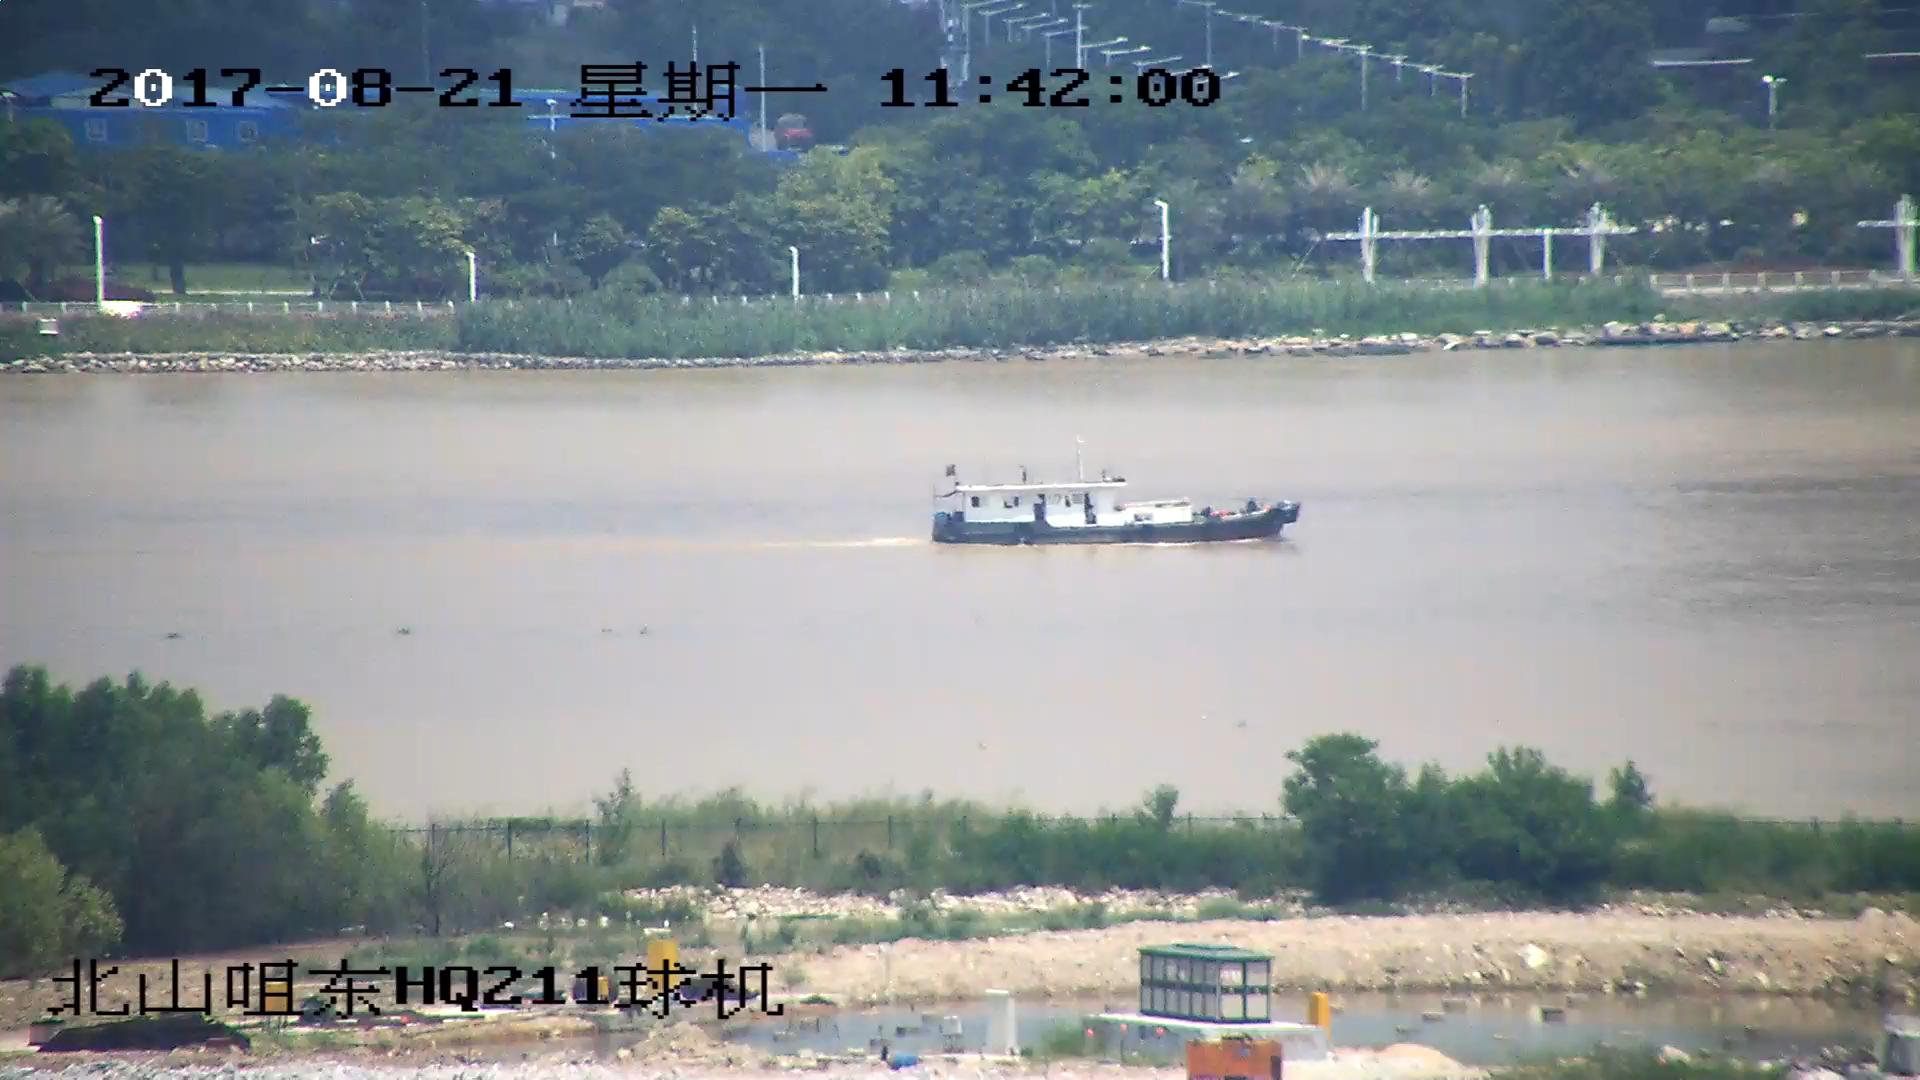fishing boat: (923, 446, 1302, 548)
